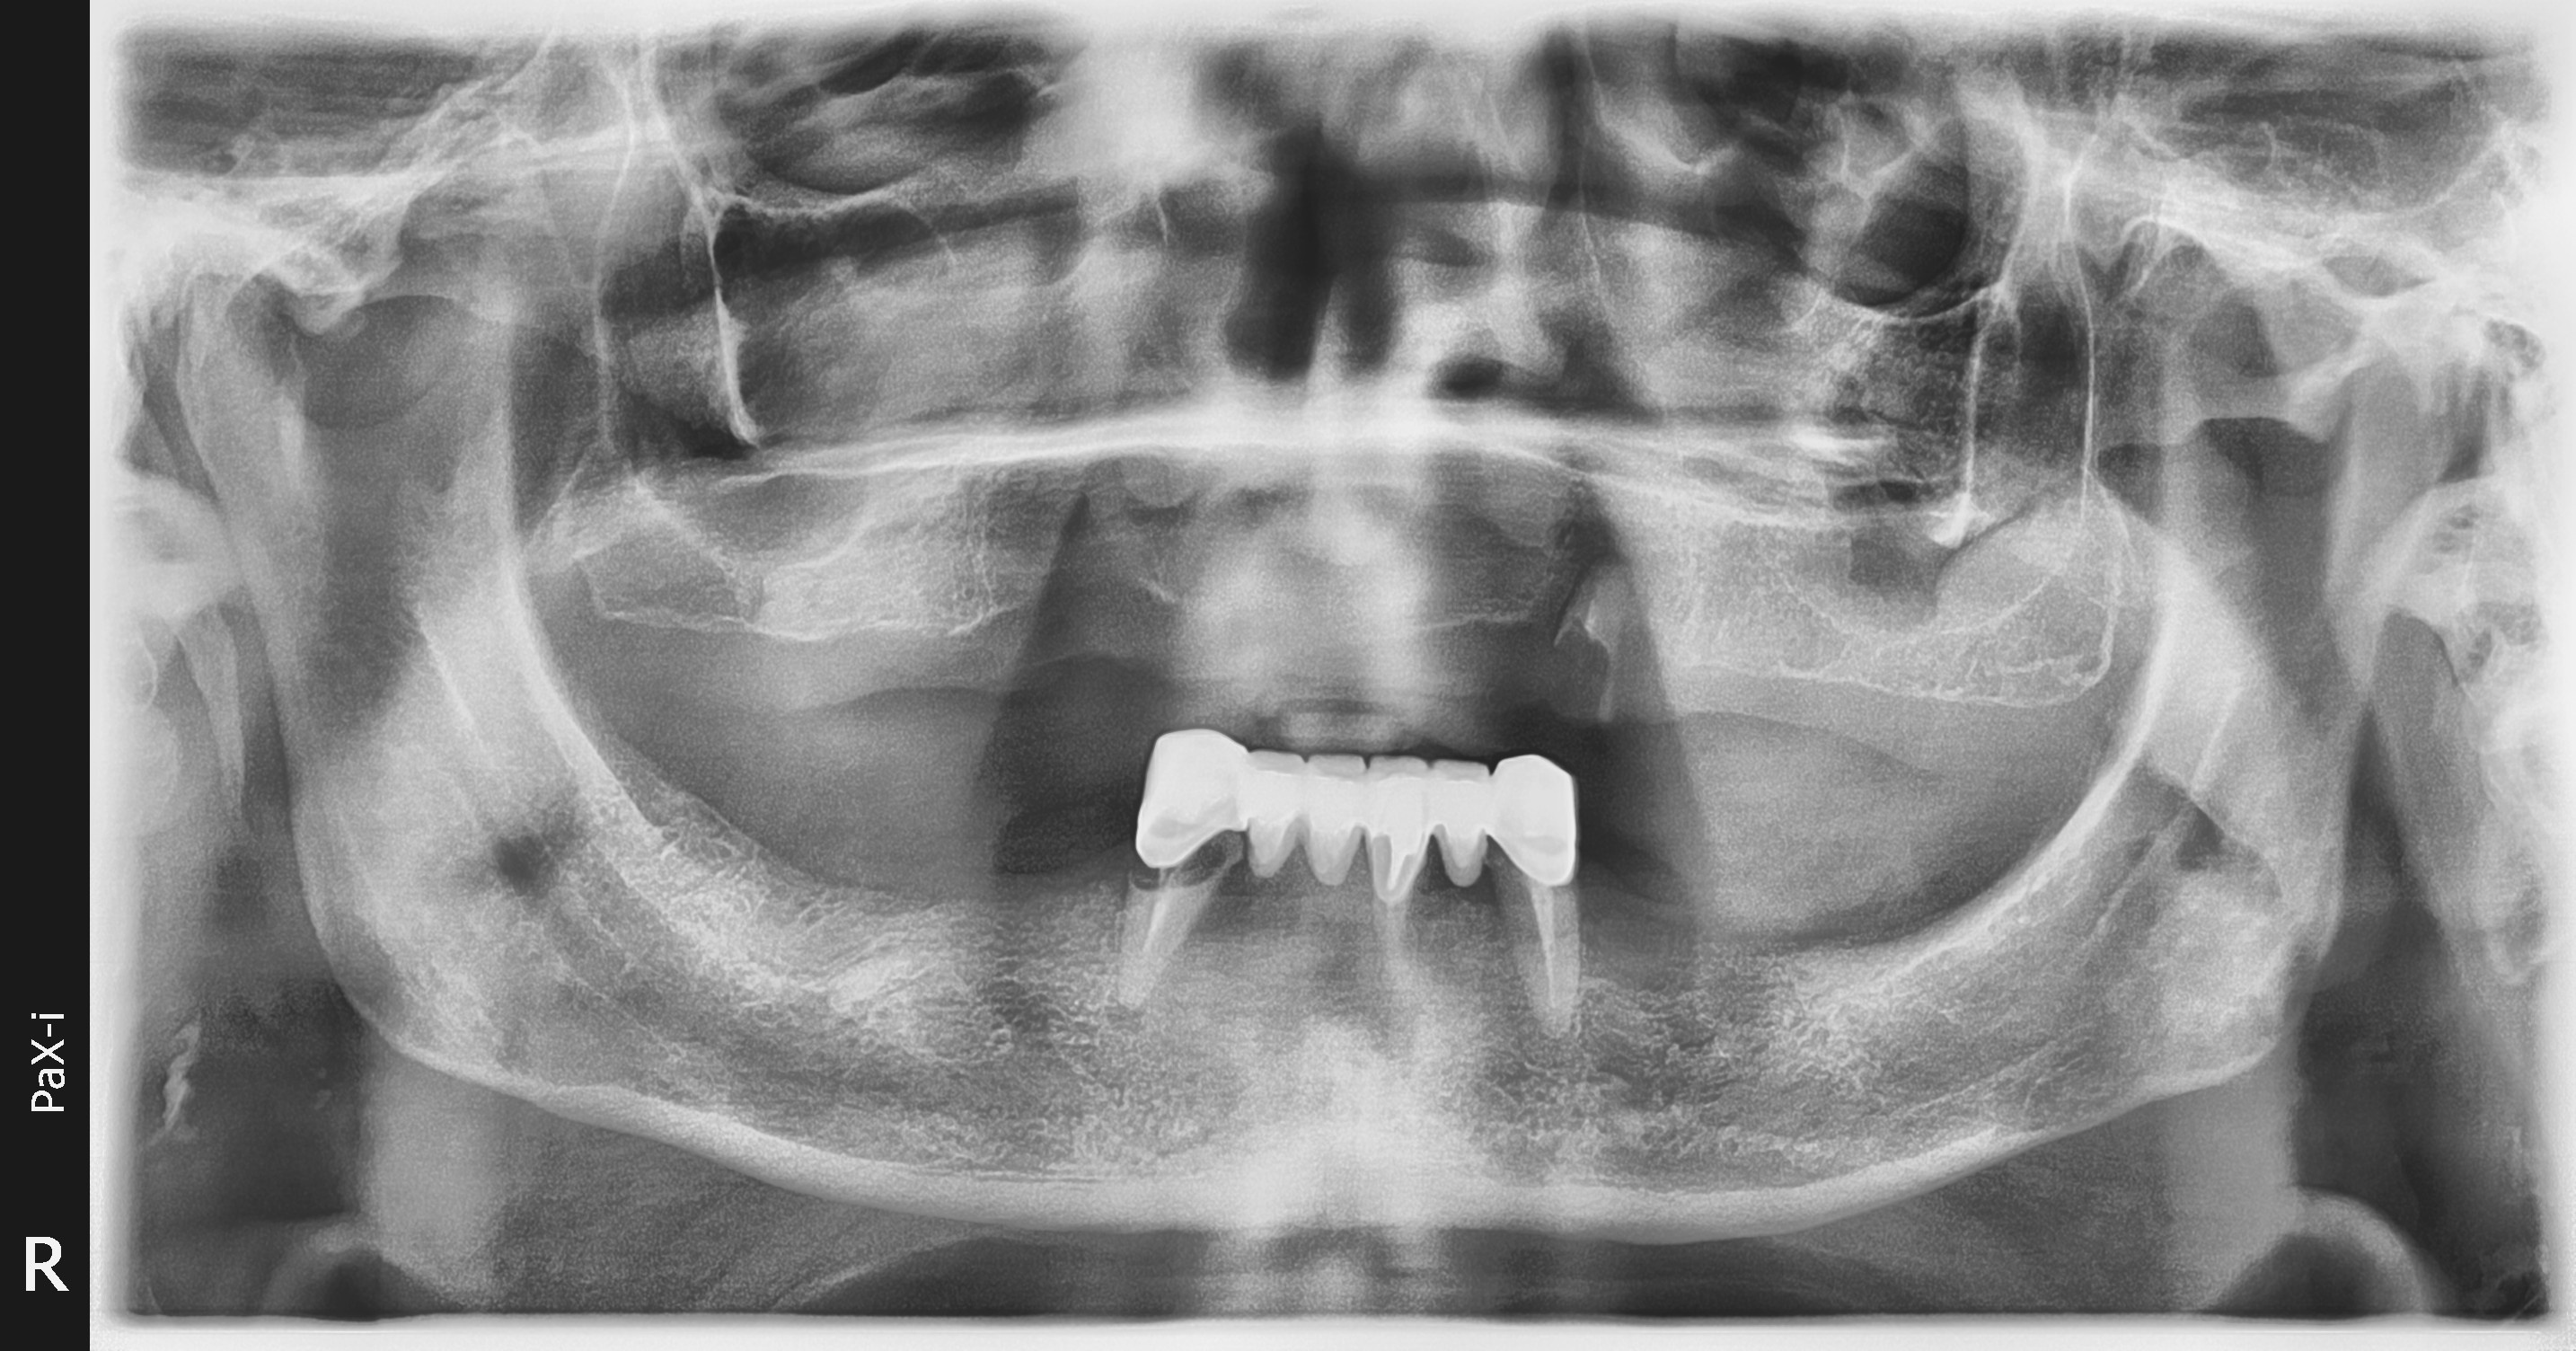API: (1061, 961, 1179, 1058)
END: (1291, 857, 1446, 1003), (1474, 871, 1617, 1026), (1082, 871, 1216, 1010)
PRR: (1082, 736, 1625, 930)
ROT: (1489, 561, 1695, 748)
